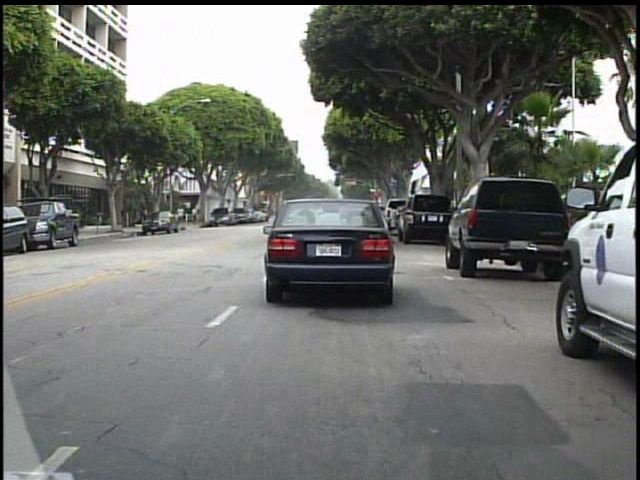person: (174, 203, 188, 227), (188, 202, 201, 227)
